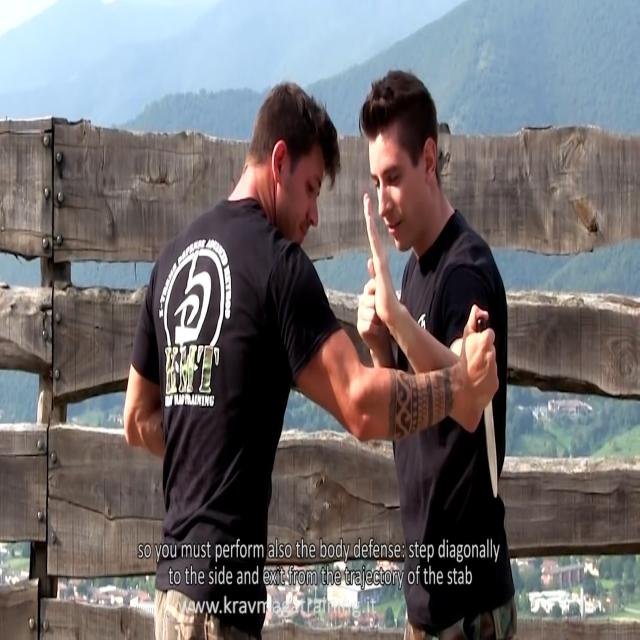knife: (482, 400, 504, 502)
